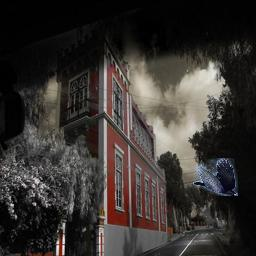Crow: (194, 158, 239, 196)
